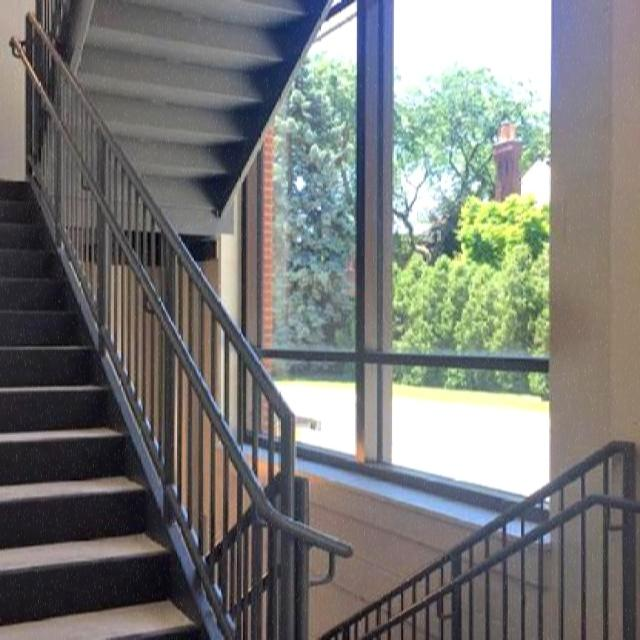stair: (0, 0, 369, 638)
